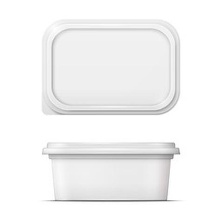plastic_box: (36, 10, 185, 121), (35, 133, 184, 207)
